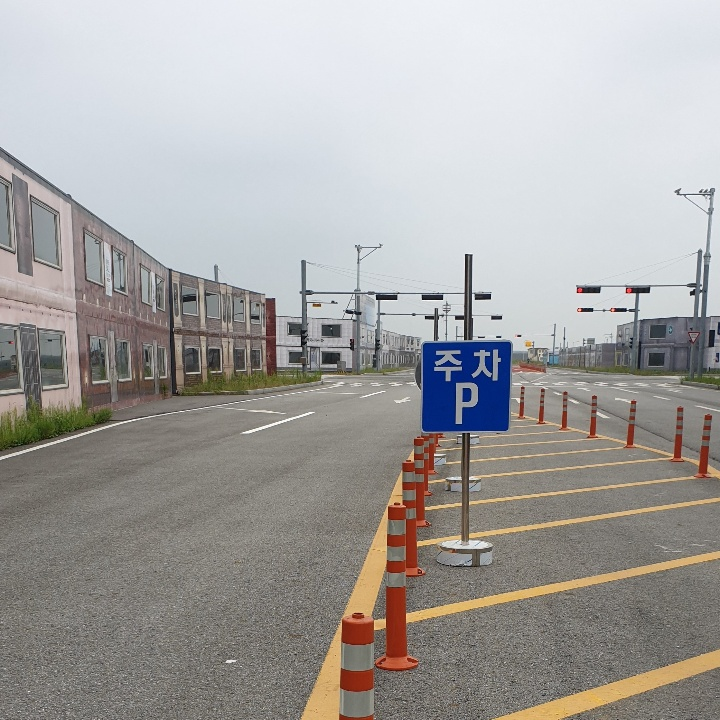parking: (448, 376, 484, 430)
